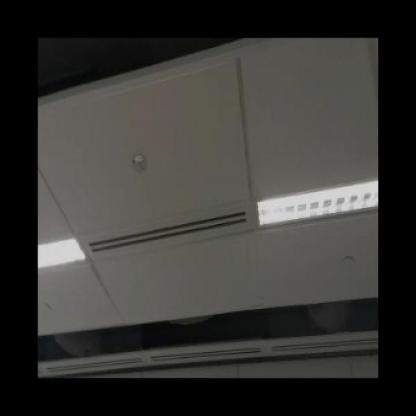light_on: (251, 166, 378, 236), (38, 226, 92, 280)
